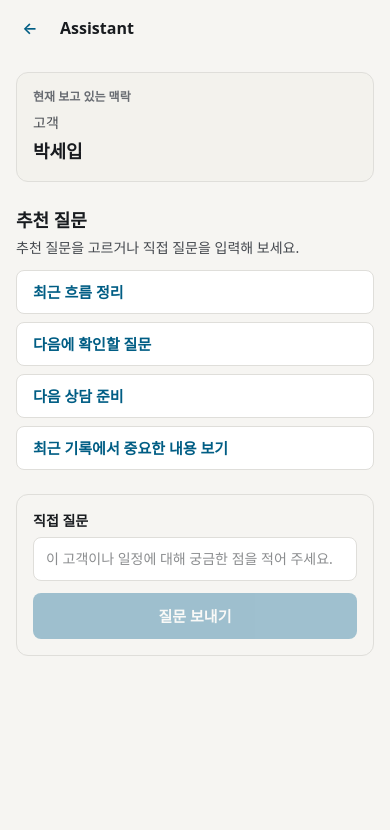
Assistant surface › connects retry to the injected adapter and exposes error semantics
What coordinates should you click on to do the following:
click the button "최근 흐름 정리"
I would click on:
 (78, 292)
Its box is x1=16 y1=270 x2=374 y2=314.
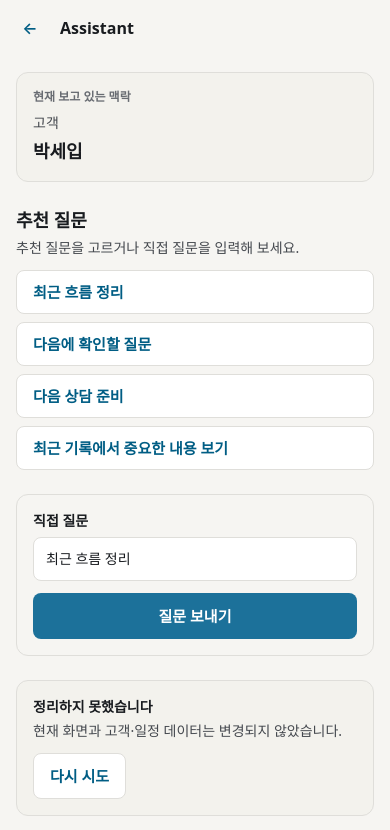
Now the message "정리하지 못했습니다 현재 화면과 고객·일정 데이터는 변경되지 않았습니다. 다시 시도" is shown, box x1=16 y1=680 x2=374 y2=816
What coordinates should you click on to do the following:
click the button "다시 시도"
I would click on:
 (80, 776)
Its box is x1=33 y1=753 x2=126 y2=799.
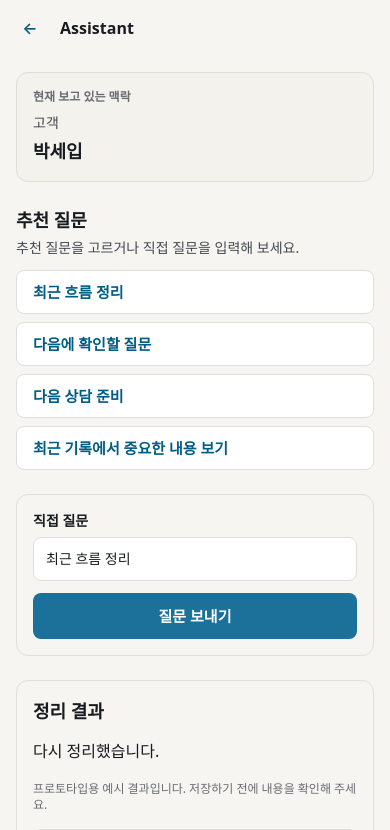
Now the heading "정리 결과" is shown, box x1=33 y1=699 x2=104 y2=723
